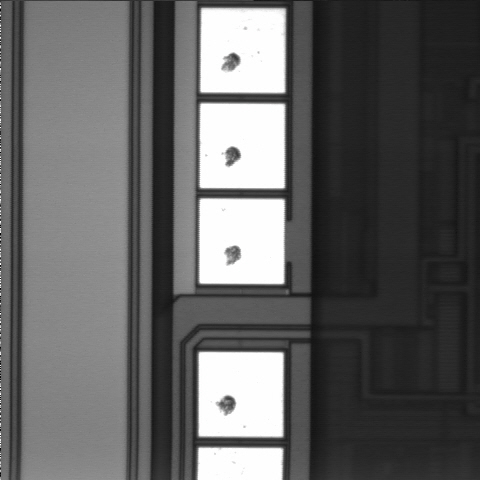pad: (200, 8, 285, 93), (200, 104, 285, 188), (200, 199, 284, 284), (199, 352, 283, 437)
